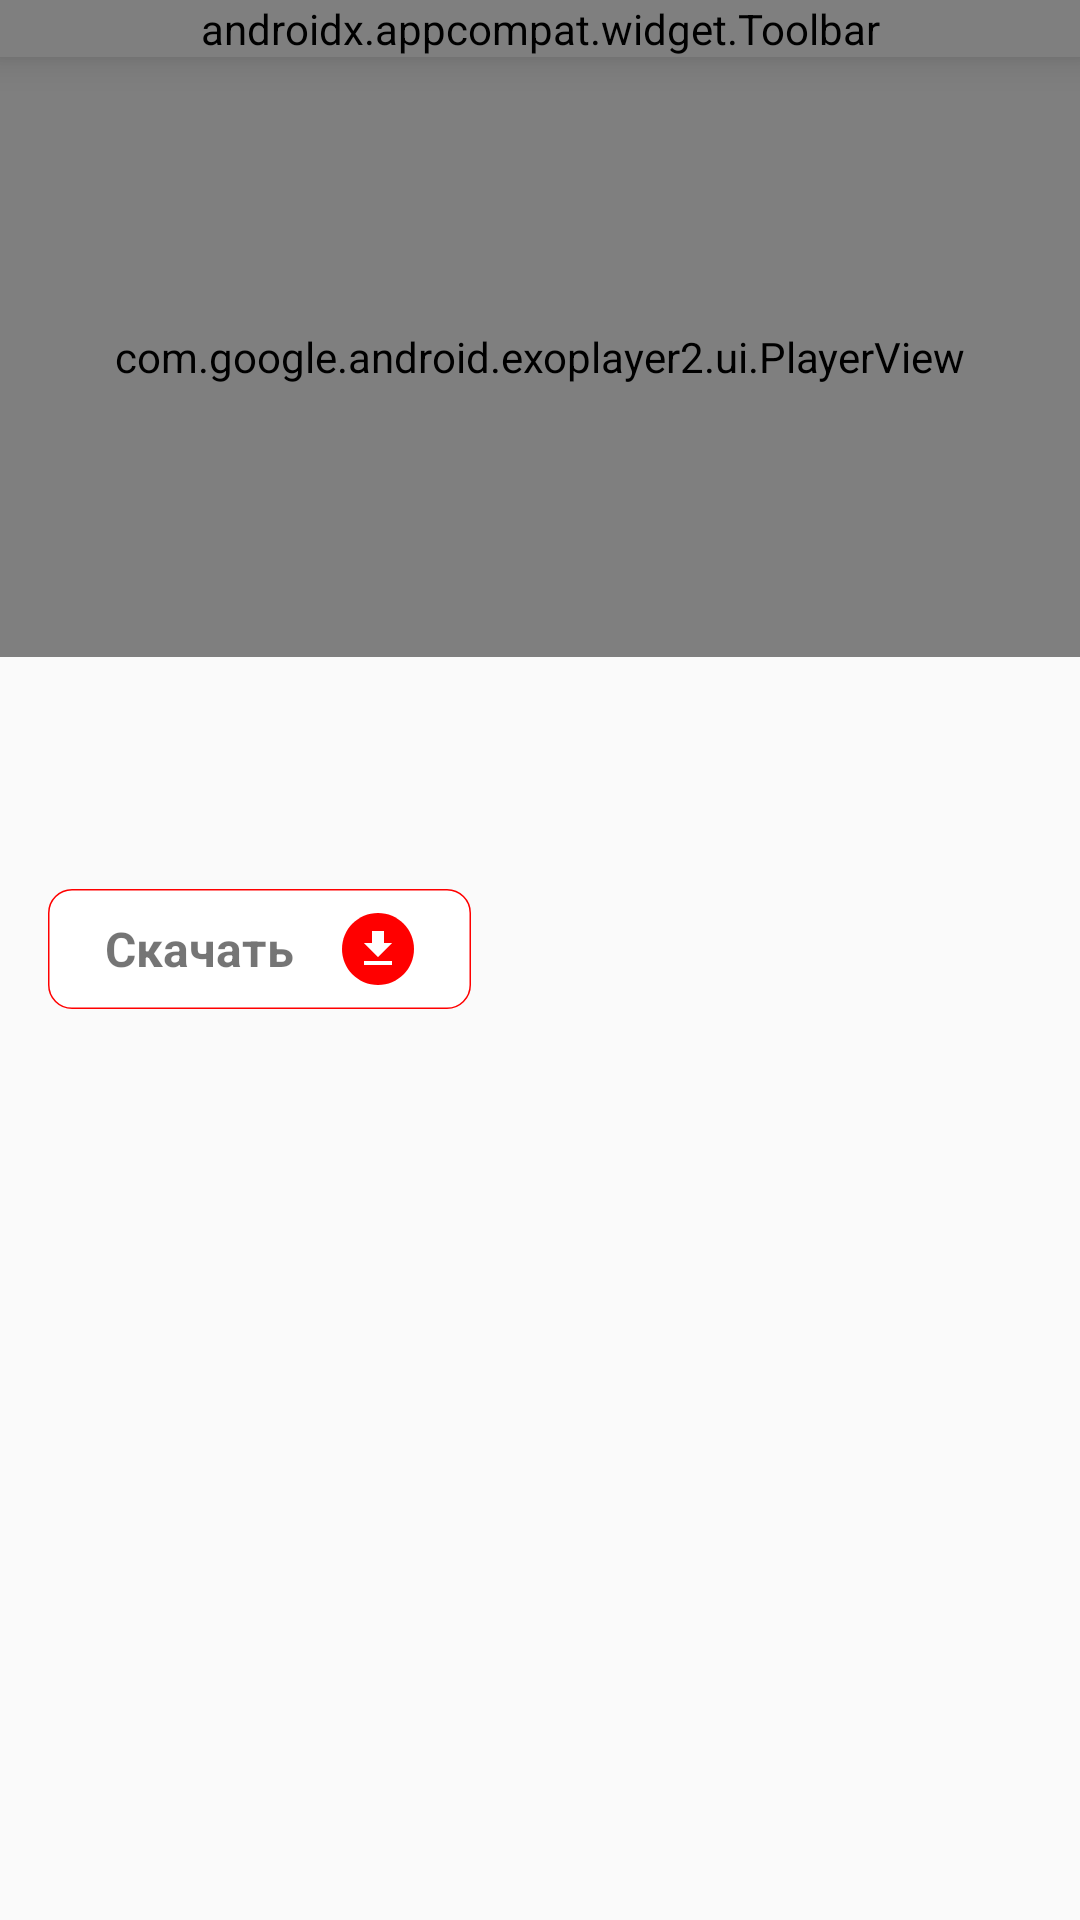

Screen size 1080 x 1920. Icon name, then its center in pixels as [x,y]:
download: [378,949]
